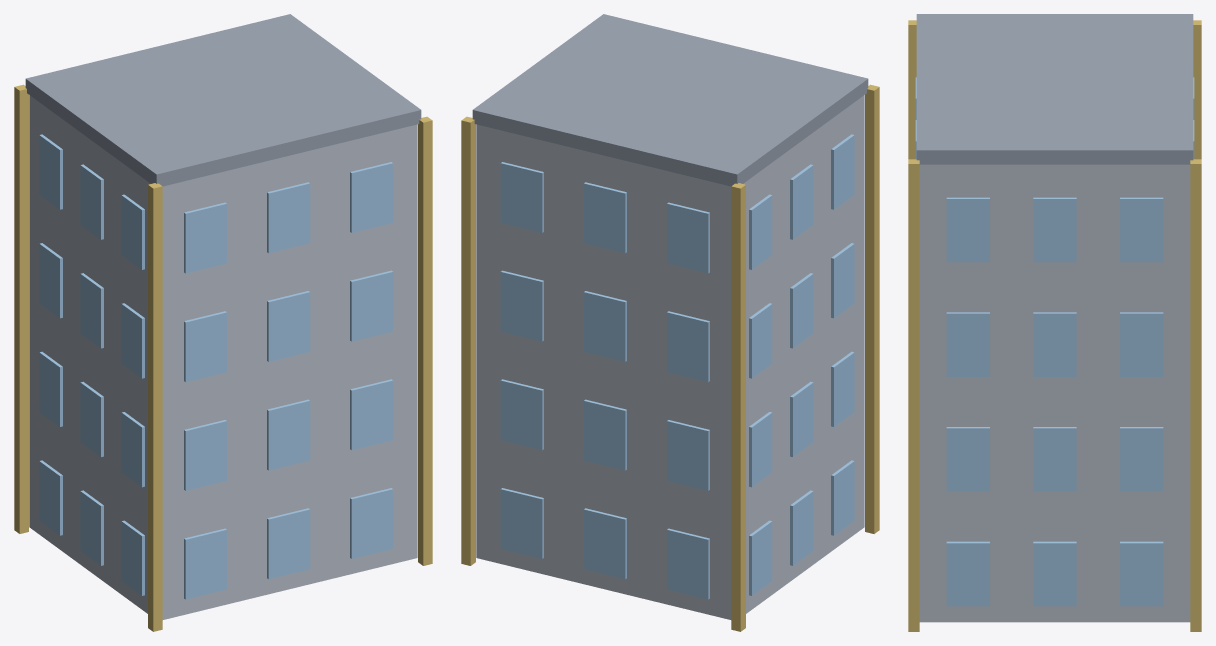
Rendered from commercial_a.glb.
3 views of the same model, side by side, from view 1: azimuth 30°, elevation 25°; view 2: azimuth 150°, elevation 25°; view 3: azimuth 270°, elevation 25° (orthographic). The views are drawn at different scales.
Size of the model in its own units: 7.53 by 11.67 by 6.49.
